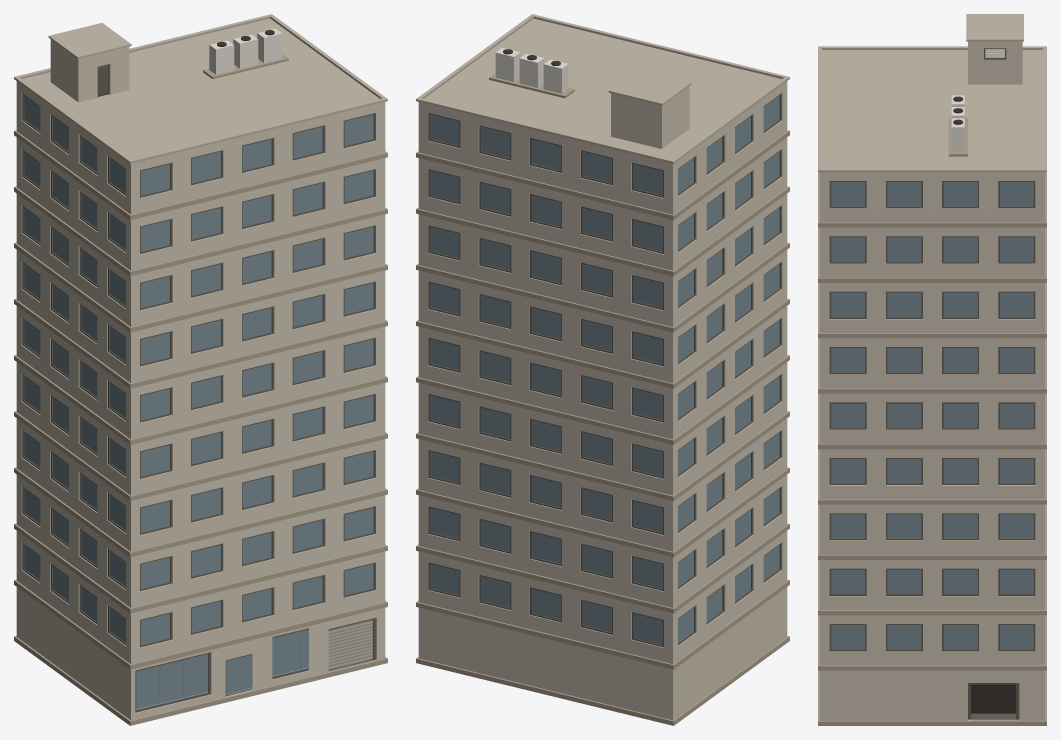
Rendered from building.glb.
3 renders of one model, left to right at view 1: azimuth 30°, elevation 25°; view 2: azimuth 150°, elevation 25°; view 3: azimuth 270°, elevation 25°, orthographic.
Parts seen in each view (by area): view 1: building; view 2: building; view 3: building.
Part boxes in pixels (<box>): building: <box>14,14,387,725</box>; building: <box>416,14,789,725</box>; building: <box>818,14,1046,725</box>.
Bounding box in the file's own units: 18.24 × 41.12 × 14.24.
